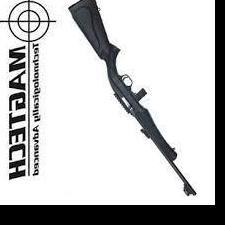larga: (67, 0, 197, 198)
